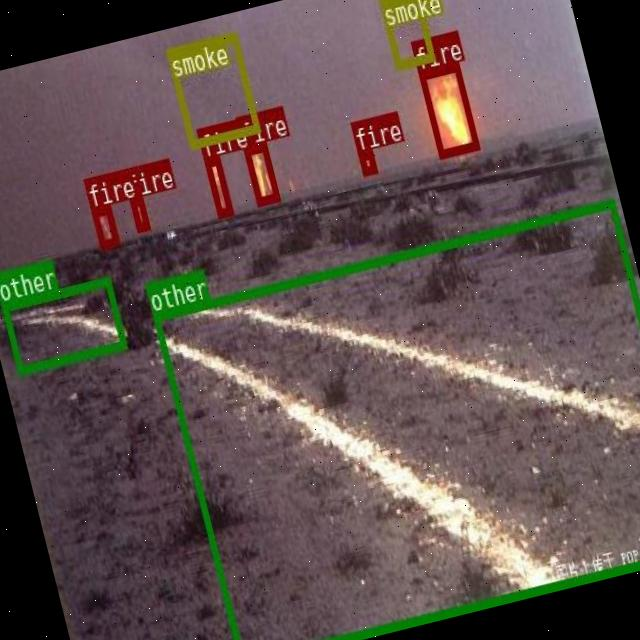fire: (417, 61, 478, 158), (242, 140, 280, 205), (202, 154, 232, 217), (89, 204, 118, 248), (128, 194, 150, 230), (356, 148, 376, 175)
smoke: (166, 30, 260, 148), (378, 0, 434, 68)
